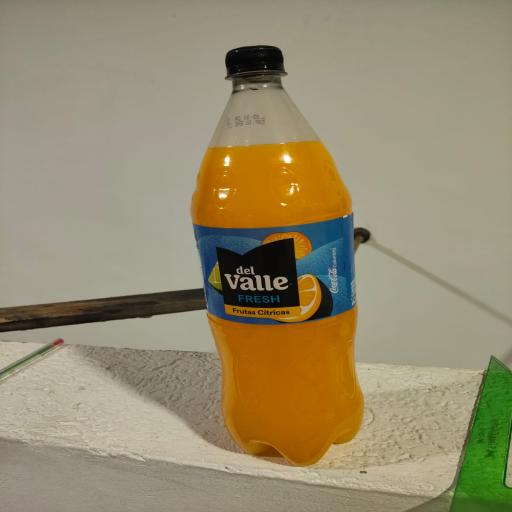Jugo del valle: (169, 2, 403, 476)
